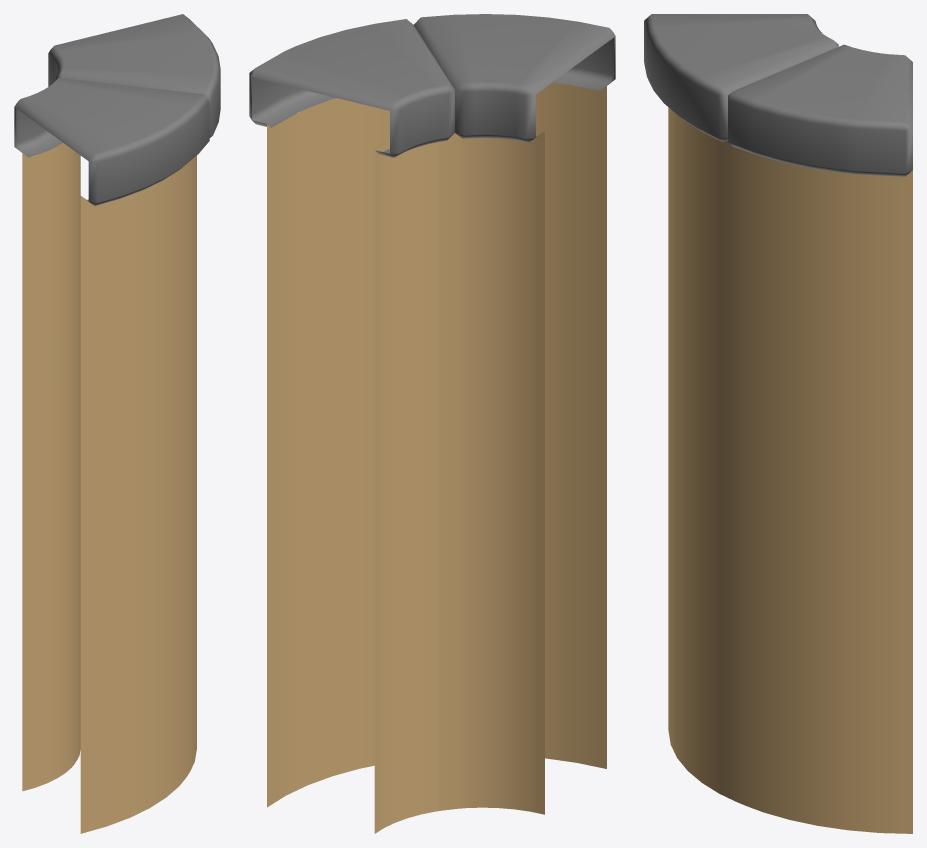
Rendered from SM_WallCurve_6_LOD0.fbx.
3 renders of one model, left to right at view 1: azimuth 30°, elevation 25°; view 2: azimuth 150°, elevation 25°; view 3: azimuth 270°, elevation 25°, orthographic. The views are drawn at different scales.
Visible parts, largest first — view 1: SM_WallCurve_6_LOD0; view 2: SM_WallCurve_6_LOD0; view 3: SM_WallCurve_6_LOD0.
Part boxes in pixels (x1=…): SM_WallCurve_6_LOD0: x1=14, y1=14, x2=220, y2=833; SM_WallCurve_6_LOD0: x1=249, y1=14, x2=615, y2=833; SM_WallCurve_6_LOD0: x1=644, y1=14, x2=912, y2=833.
Bounding box in the file's own units: 2.2 × 6.5 × 2.2.
